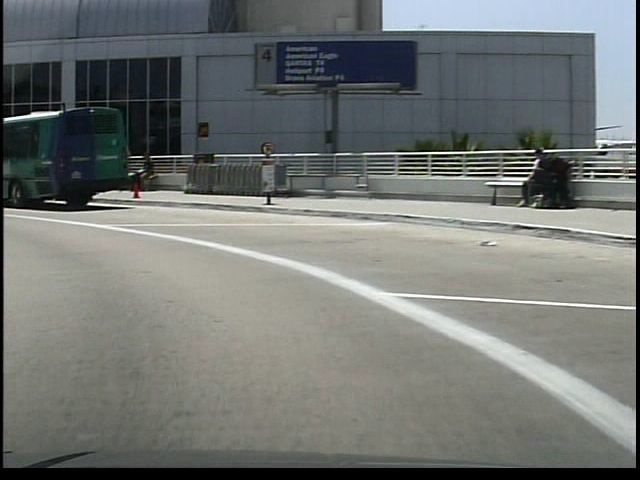person: (129, 149, 155, 195)
